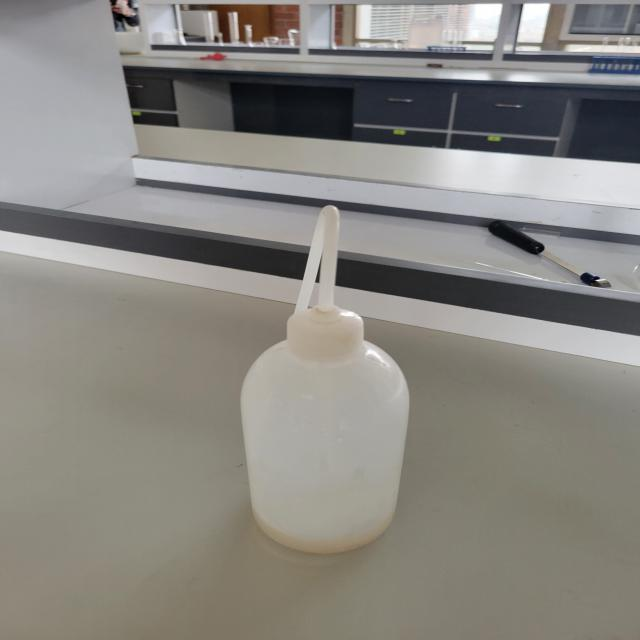Wash_Bottle: (197, 168, 462, 590)
